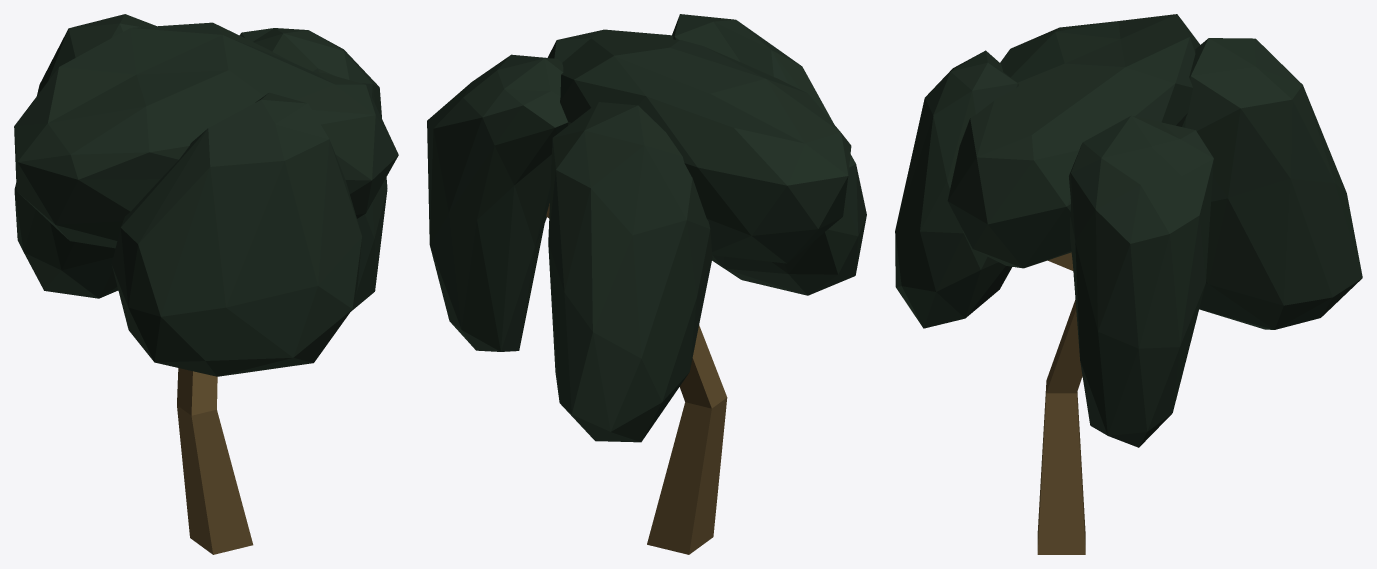
File: GrasslandsTreeType9.fbx
3 renders of one model, left to right at view 1: azimuth 30°, elevation 25°; view 2: azimuth 150°, elevation 25°; view 3: azimuth 270°, elevation 25°, orthographic. The views are drawn at different scales.
Visible parts, largest first — view 1: GrasslandsTreeType9; view 2: GrasslandsTreeType9; view 3: GrasslandsTreeType9.
Boxes of the visible parts, left/top/right/bottom form: GrasslandsTreeType9: left=14, top=14, right=398, bottom=554; GrasslandsTreeType9: left=427, top=14, right=866, bottom=554; GrasslandsTreeType9: left=895, top=14, right=1362, bottom=554.
Bounding box in the file's own units: 4.07 × 4.93 × 4.23.
